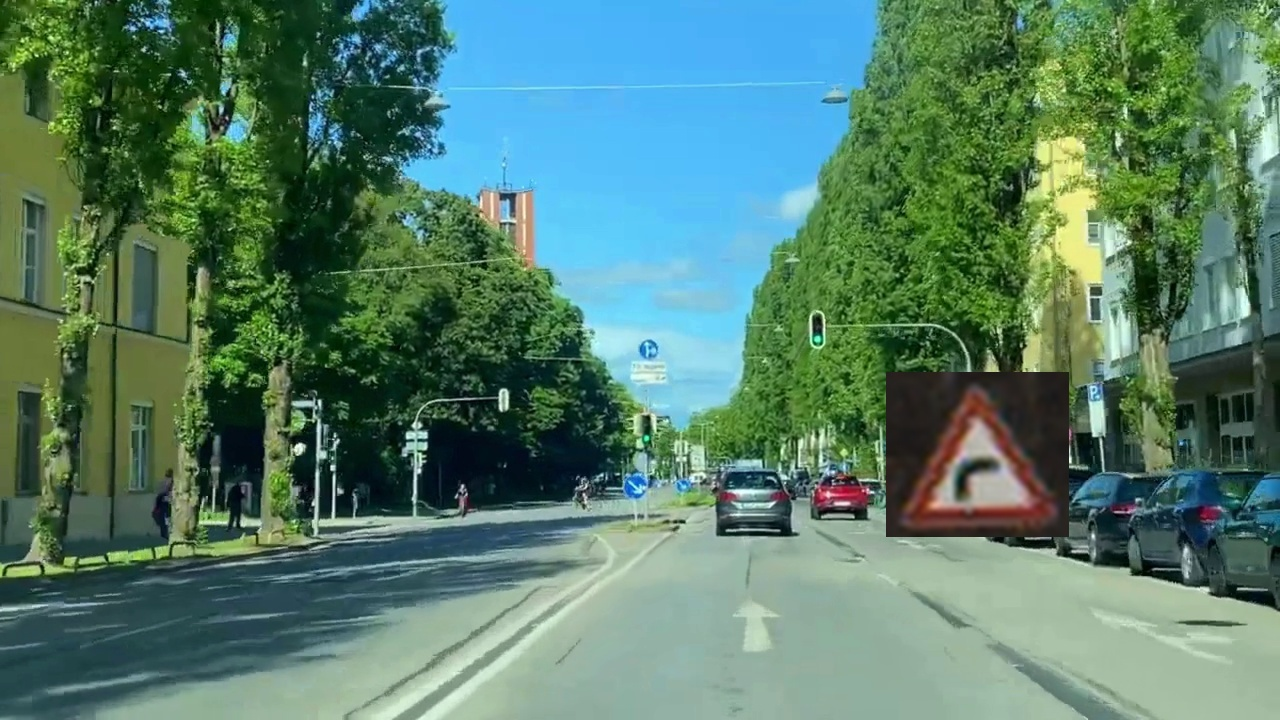Curve right: (886, 372, 1069, 537)
